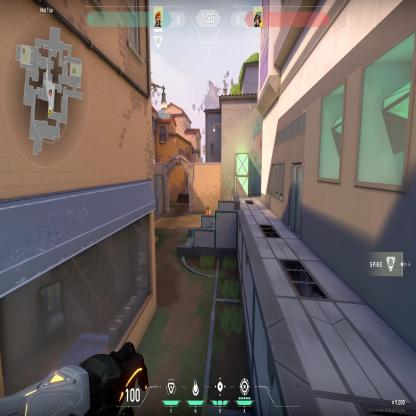enemy: (205, 205, 211, 215)
